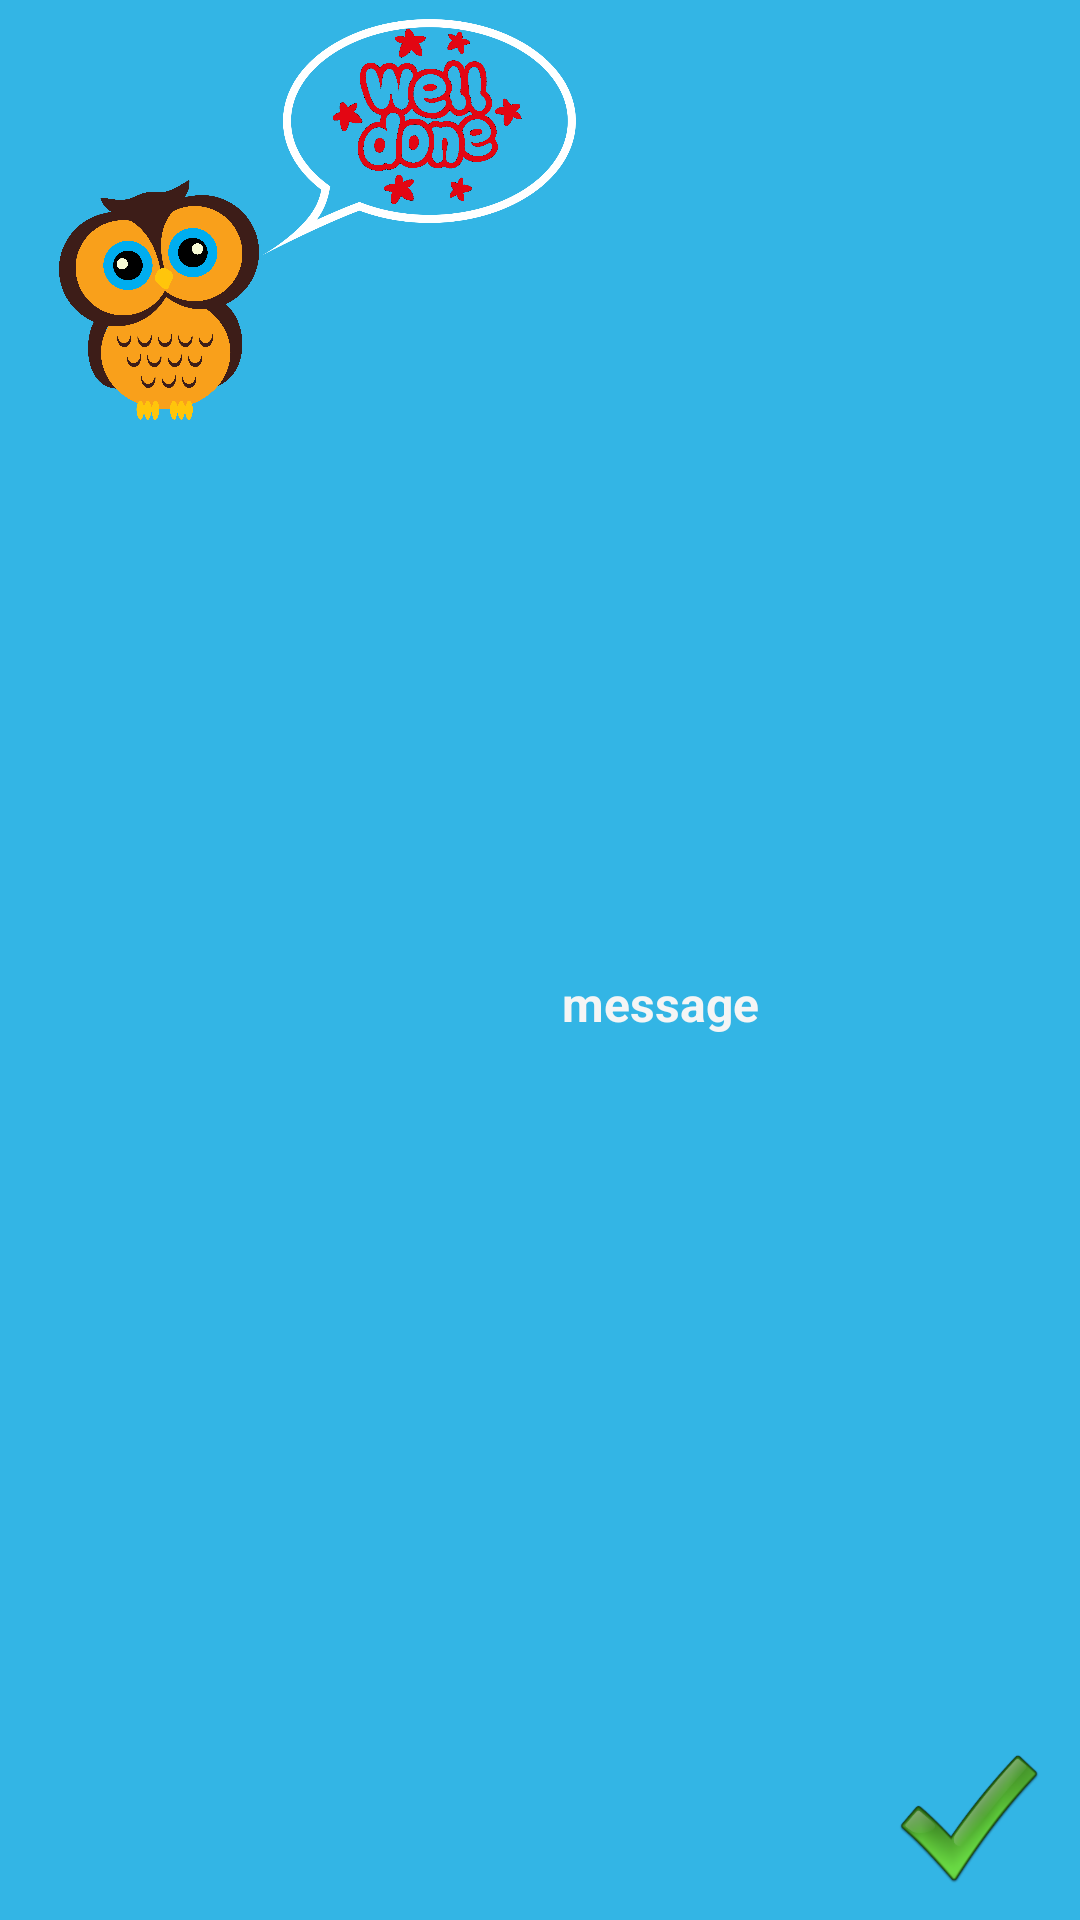

Icon click points for this 1080px×1920px phone screenshot, format (x,y):
check: (969,1818)
owl: (161,300)
